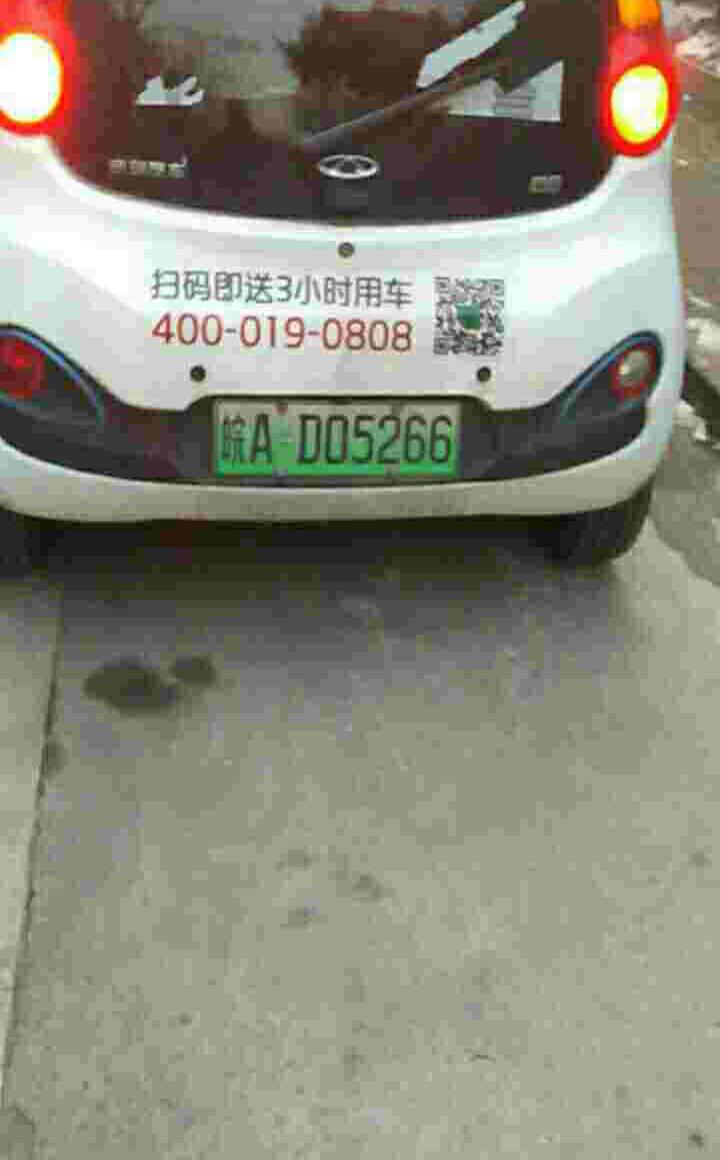car: (210, 399, 470, 475)
